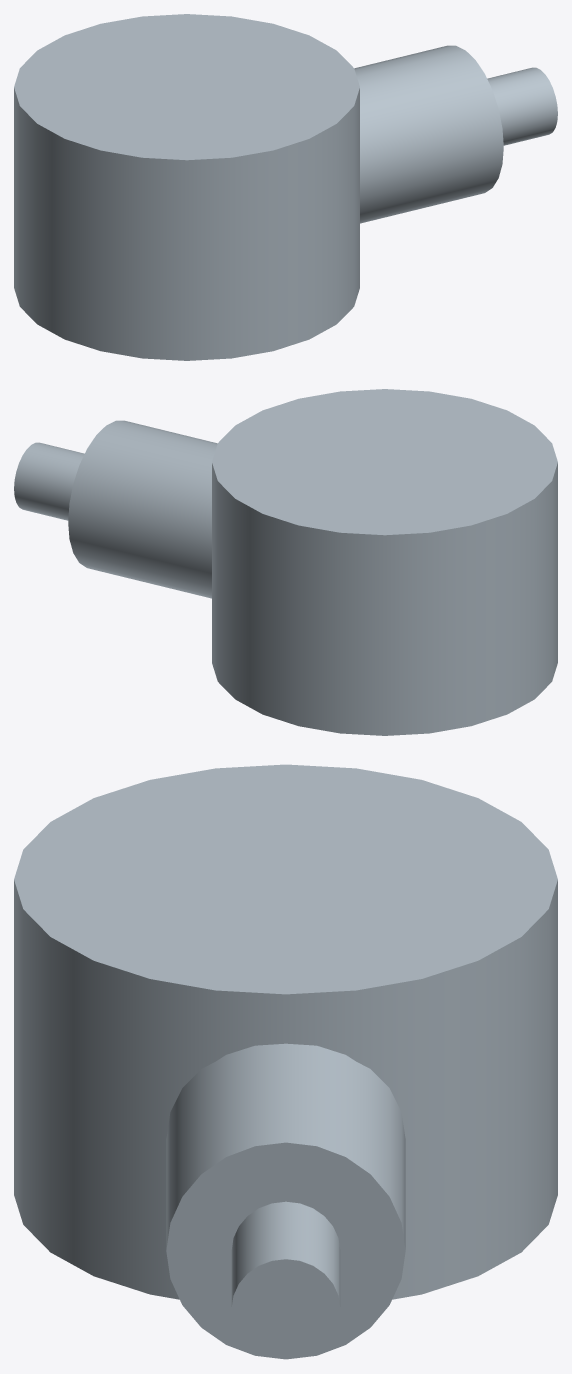
Rendered from SM_Manifold_Tee.glb.
3 views of the same model, one above another, from view 1: azimuth 30°, elevation 25°; view 2: azimuth 150°, elevation 25°; view 3: azimuth 270°, elevation 25° (orthographic). The views are drawn at different scales.
Visible parts, largest first — view 1: SM_Manifold_Tee; view 2: SM_Manifold_Tee; view 3: SM_Manifold_Tee.
Boxes of the visible parts, bbox=[...] form: SM_Manifold_Tee: bbox=[14, 14, 557, 360]; SM_Manifold_Tee: bbox=[14, 389, 557, 735]; SM_Manifold_Tee: bbox=[14, 764, 557, 1359].
Size of the model in its own units: 0.084 by 0.032 by 0.05.
